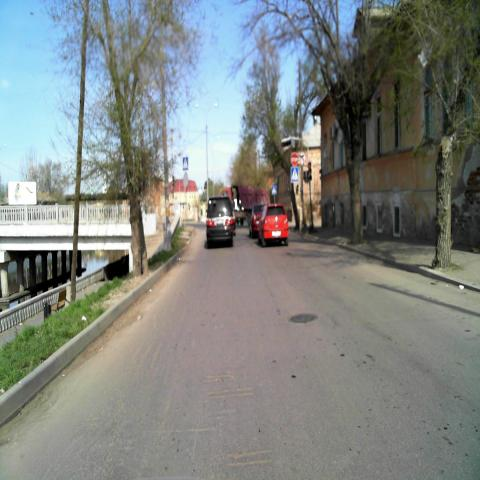2_5: (290, 152, 298, 166)
3_18: (299, 150, 306, 166)
5_19_1: (290, 167, 298, 183), (183, 156, 188, 170), (271, 185, 276, 195)
